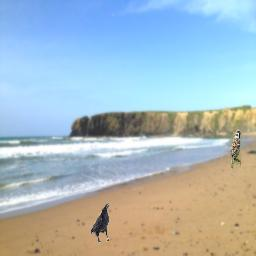Crow: (91, 203, 109, 243)
Sparrow: (230, 129, 241, 169)
